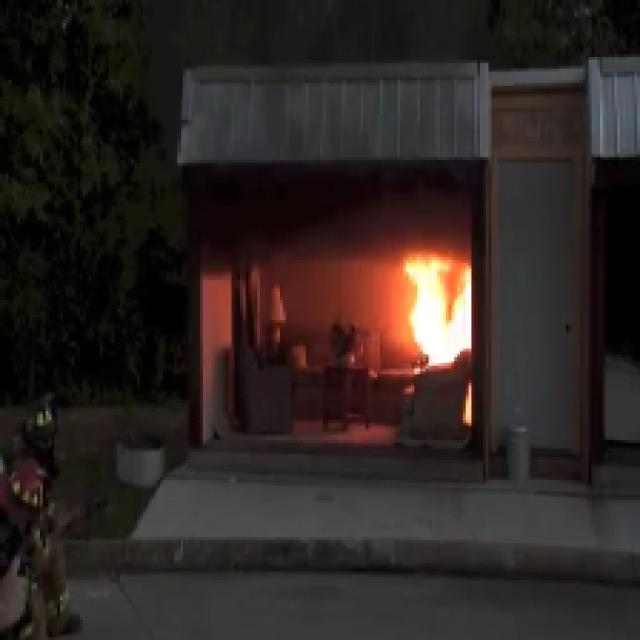fire: (406, 247, 470, 354)
